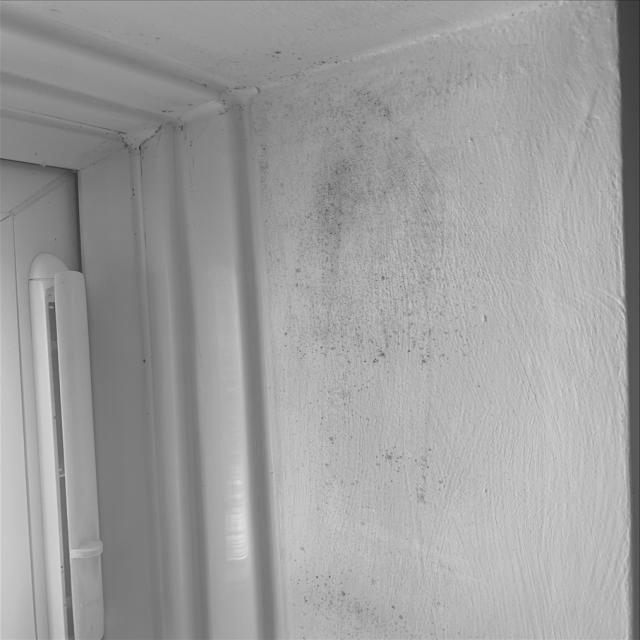stain marks: (200, 25, 506, 408), (29, 89, 240, 207), (266, 539, 460, 640), (286, 425, 485, 516)
